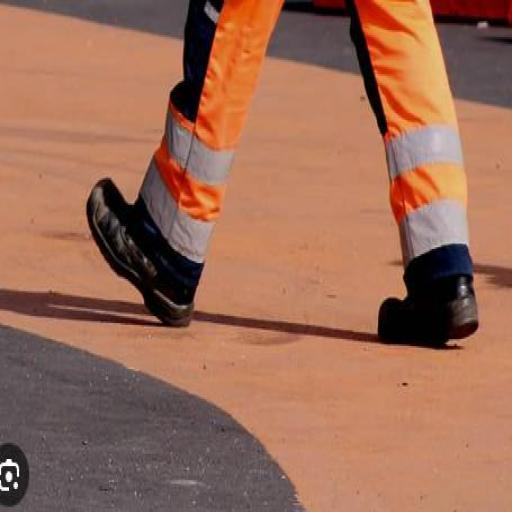safety_boots: (77, 176, 209, 334), (355, 252, 487, 368)
